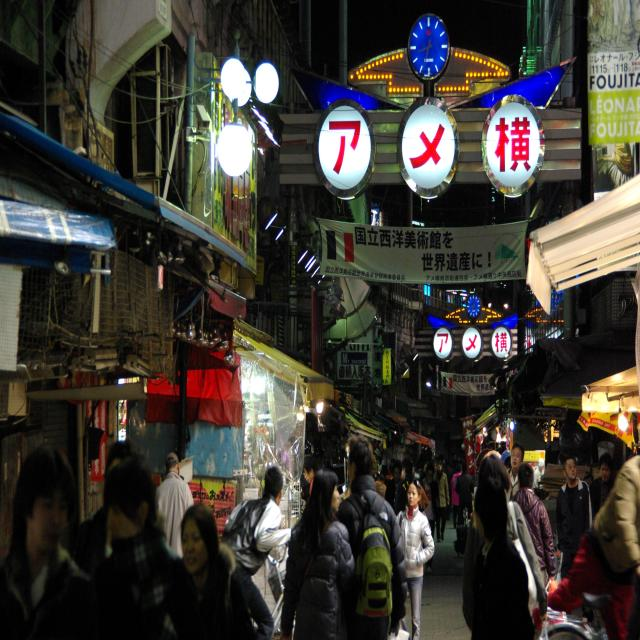body: (530, 451, 640, 639), (0, 443, 92, 640), (82, 452, 174, 640), (164, 498, 276, 640), (461, 453, 547, 633), (334, 433, 408, 640), (278, 468, 356, 640), (222, 465, 292, 640), (470, 478, 536, 640), (79, 440, 140, 600), (510, 462, 557, 614), (394, 476, 434, 640), (554, 460, 594, 584), (154, 452, 194, 560), (376, 450, 431, 508), (431, 421, 477, 470), (588, 451, 614, 522), (431, 457, 450, 543), (455, 462, 475, 524), (506, 442, 525, 502), (450, 463, 462, 530), (548, 442, 594, 458), (301, 450, 313, 484), (533, 457, 545, 490)
